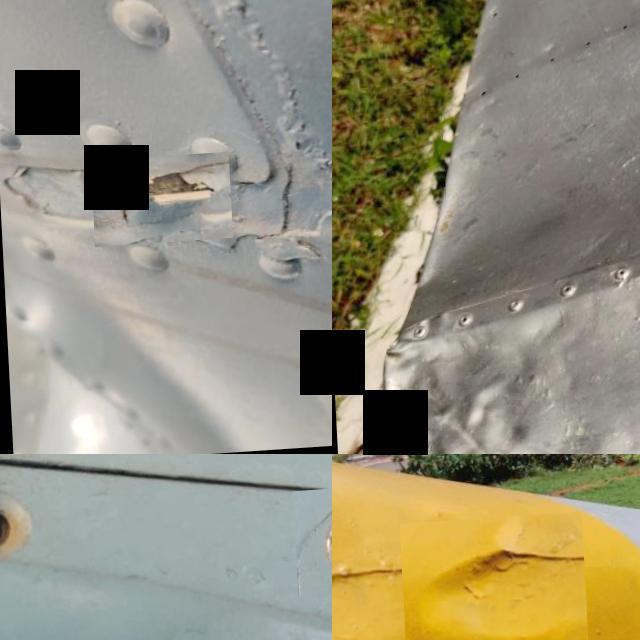Crack: (86, 155, 228, 248)
Dent: (397, 517, 585, 640), (364, 333, 551, 454)
Missing_Fastener: (0, 463, 63, 595), (291, 491, 332, 604)
